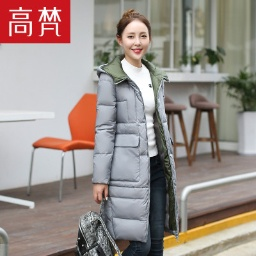face: (113, 8, 157, 61)
